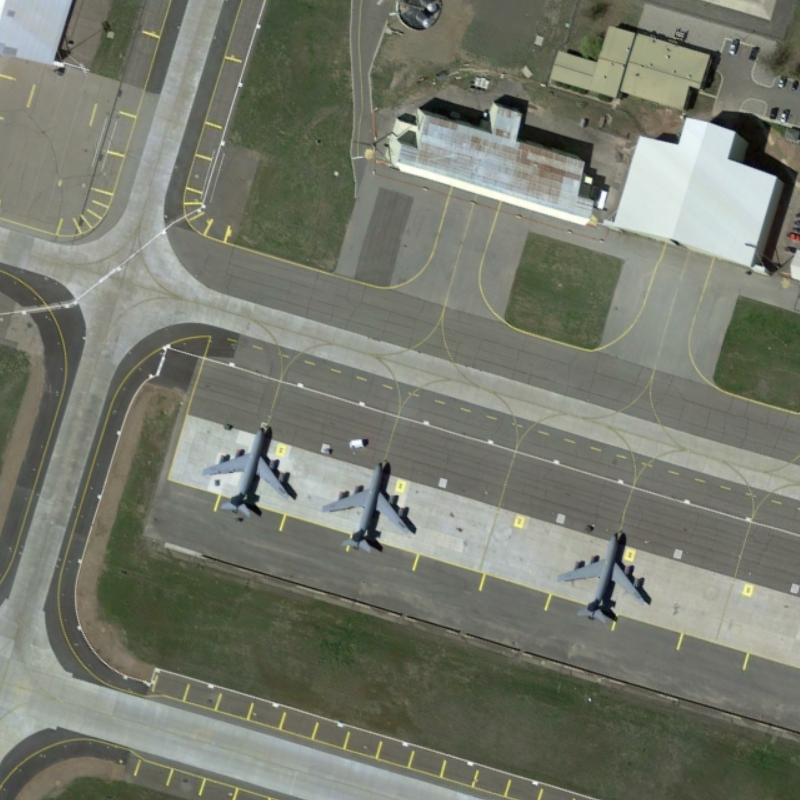A14: (203, 421, 310, 526), (318, 455, 422, 562), (551, 524, 656, 627)
